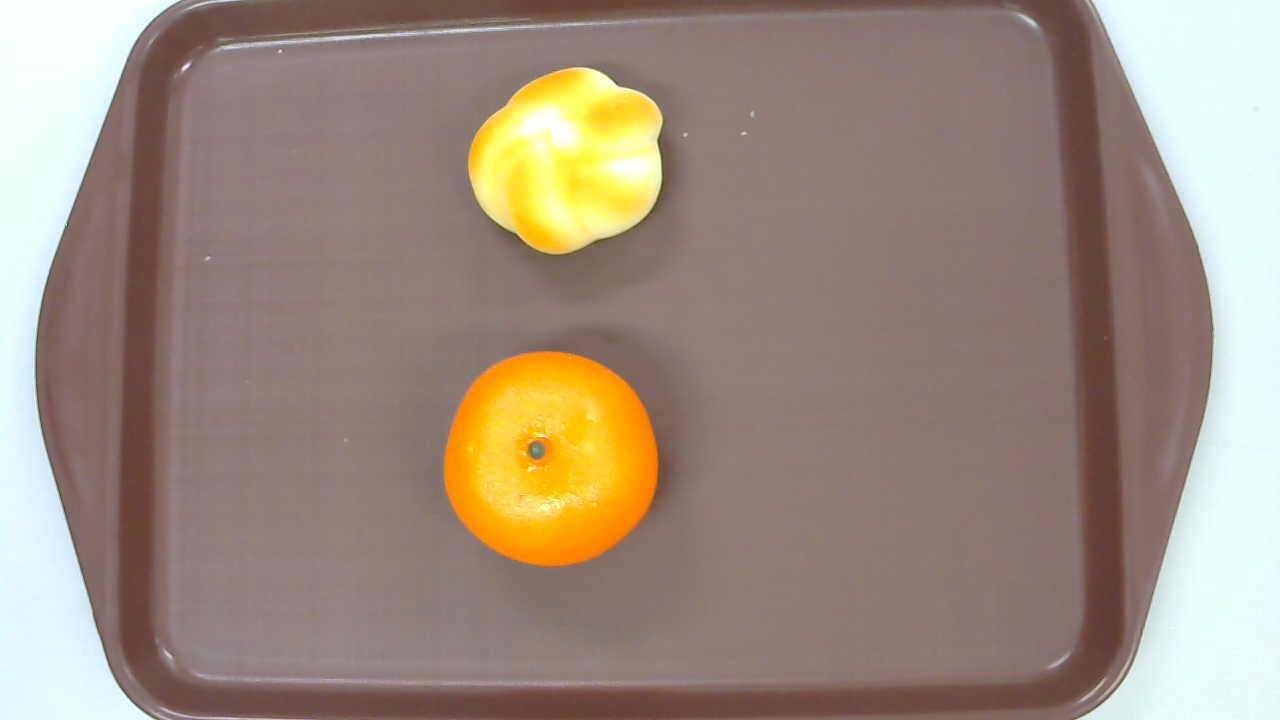orange: (442, 349, 658, 566)
twist bread: (467, 66, 665, 256)
